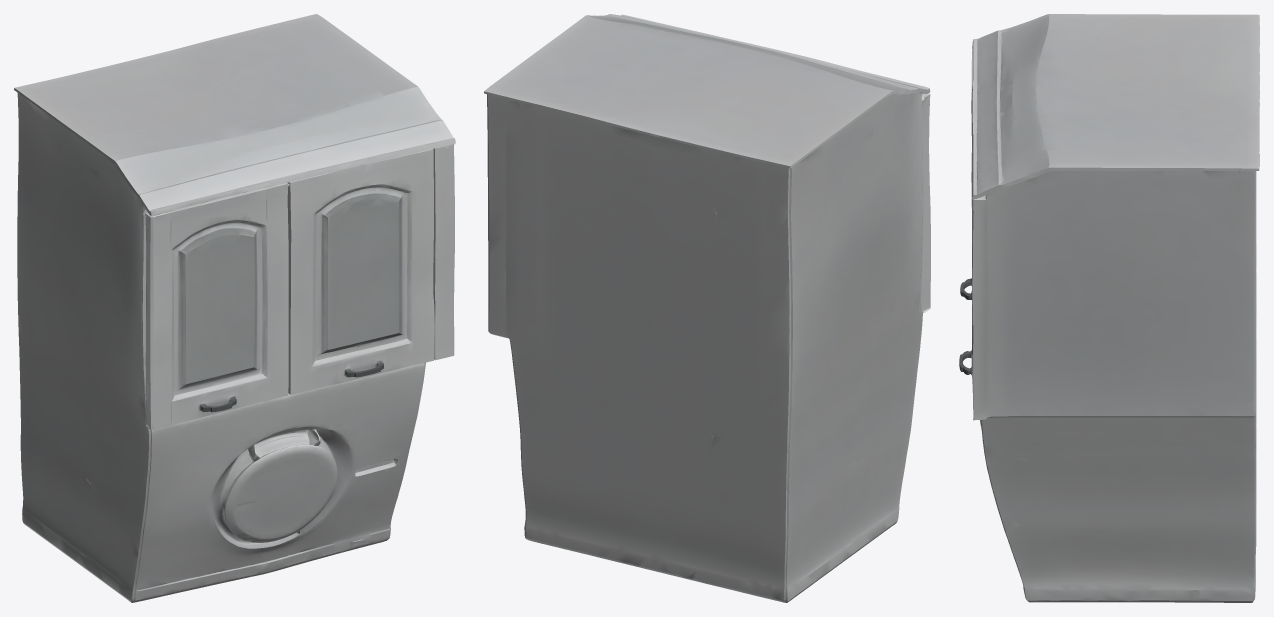
Rendered from range-hood.glb.
3 views of the same model, side by side, from view 1: azimuth 30°, elevation 25°; view 2: azimuth 150°, elevation 25°; view 3: azimuth 270°, elevation 25° (orthographic). The views are drawn at different scales.
Parts seen in each view (by area): view 1: model; view 2: model; view 3: model.
Part boxes in pixels (x1,y1,x2,y2): model: [14, 14, 455, 602]; model: [484, 14, 930, 602]; model: [959, 14, 1259, 602].
Bounding box in the file's own units: 1.38 × 1.89 × 1.13.
Materials: 1 (1 with a texture image).
